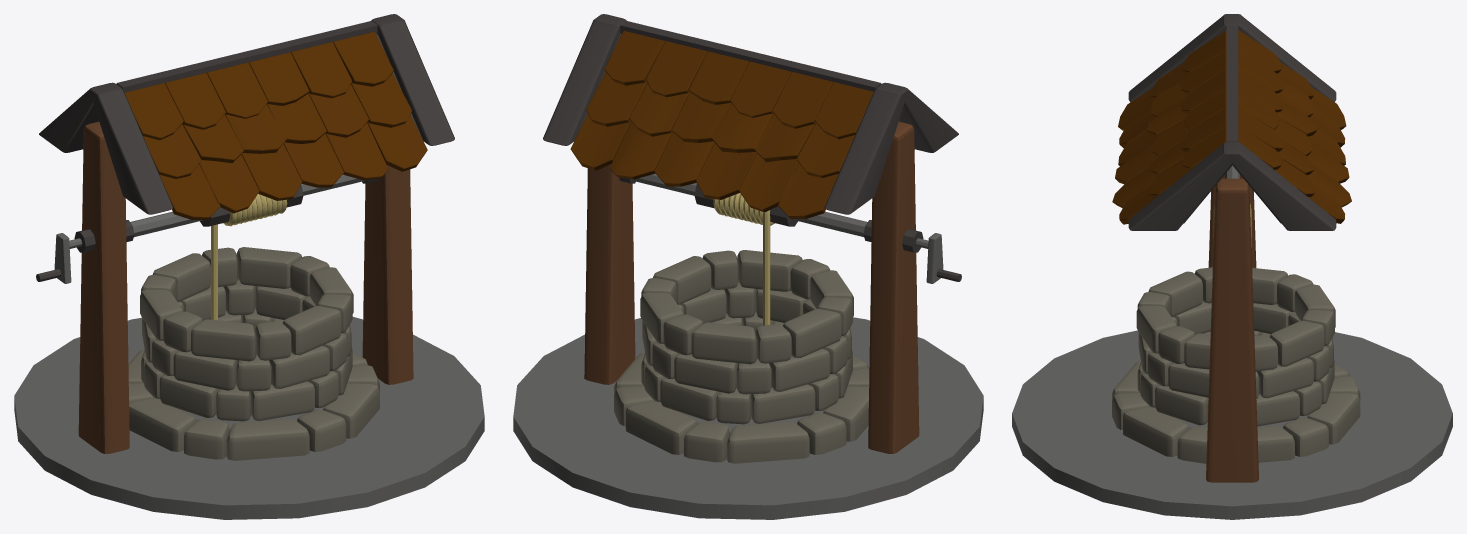
Rendered from well.fbx.
3 views of the same model, side by side, from view 1: azimuth 30°, elevation 25°; view 2: azimuth 150°, elevation 25°; view 3: azimuth 270°, elevation 25° (orthographic). The views are drawn at different scales.
Visible parts, largest first — view 1: pCube17; view 2: pCube17; view 3: pCube17.
Part boxes in pixels (box(x1,y1,x2,y2)): pCube17: box(14, 14, 484, 519); pCube17: box(513, 14, 983, 519); pCube17: box(1012, 14, 1452, 519).
Size of the model in its own units: 379 by 320 by 373.
